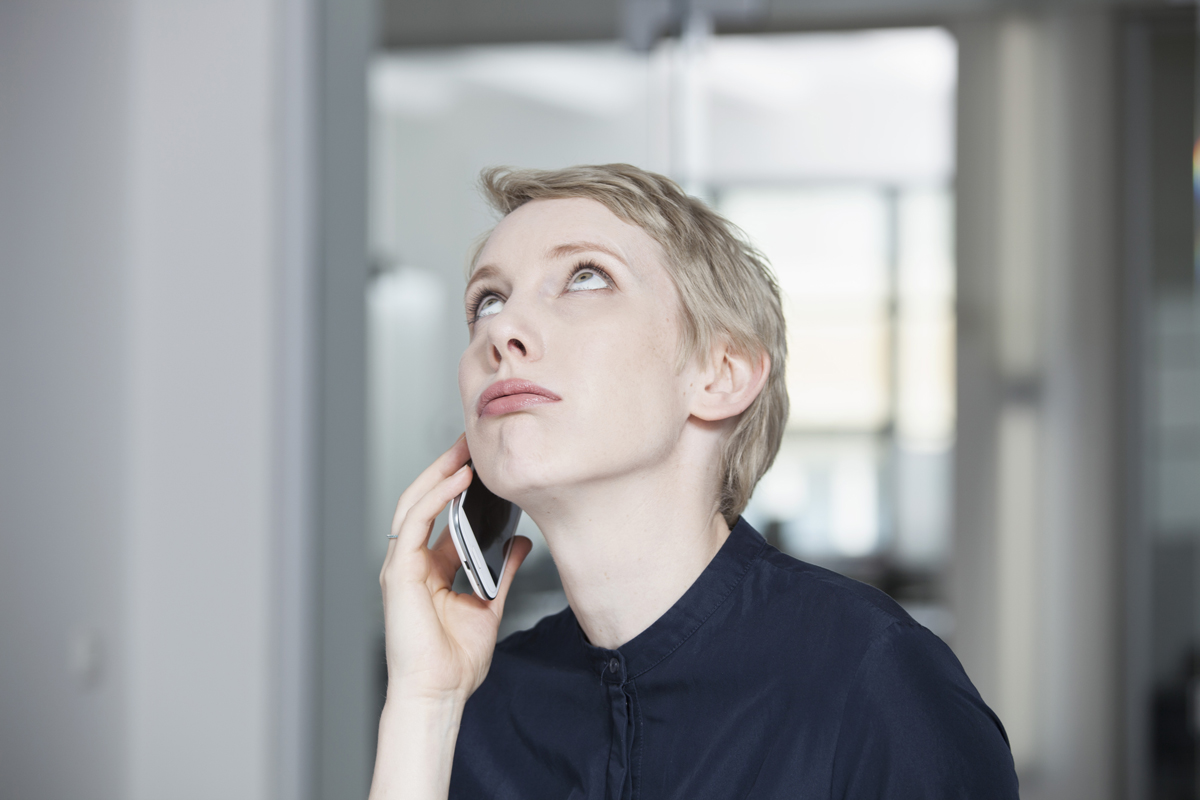smartphone: (448, 453, 524, 604)
